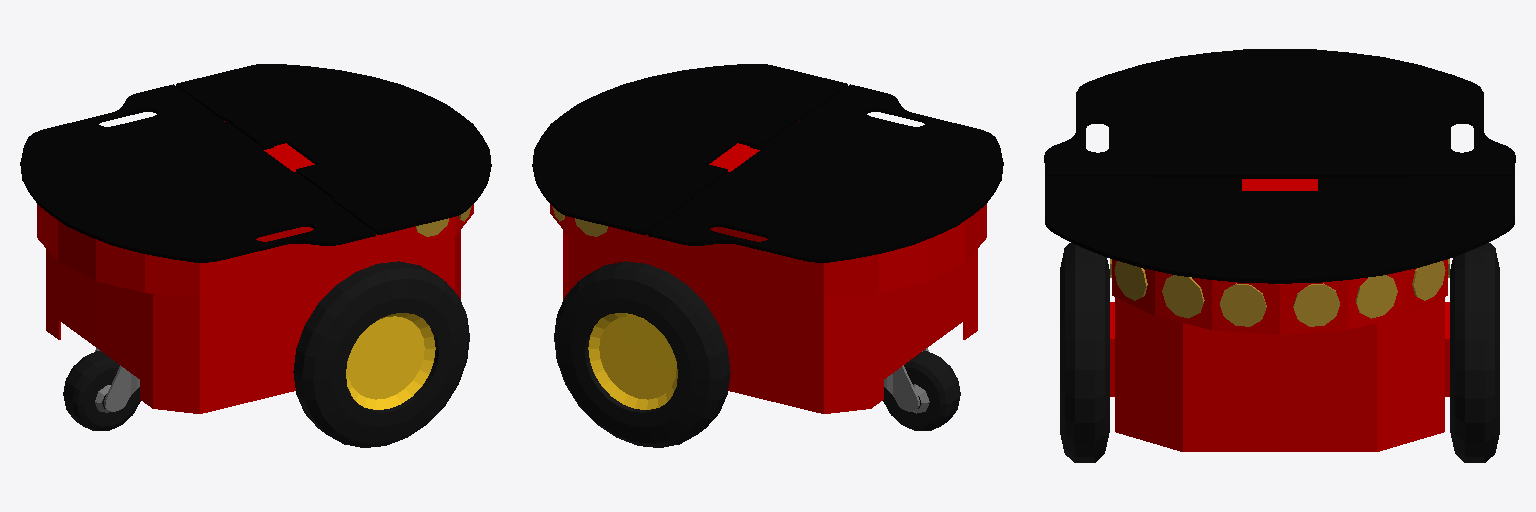
URDF robot description (pioneer3dx):
<?xml version="1.0" ?>

<robot name="pioneer3dx">
  <!-- chassis -->
  <link name="base_link">
    <visual name="base_visual">
      <origin rpy="0 0 0" xyz="-0.045 0 0.148"/>
      <material name="ChassisRed">
        <color rgba="0.851 0.0 0.0 1.0"/>
      </material>
      <geometry name="pioneer_geom">
        <mesh filename="package://p3dx_description_ros/meshes/chassis.stl"/>
      </geometry>
    </visual>
    <collision>
      <origin rpy="0 0 0" xyz="-0.045 0 0.145"/>
      <geometry>
        <box size="0.35 0.25 0.14"/>
      </geometry>
    </collision>
  </link>
  <!-- top_plate -->
  <link name="top_plate">
    <visual name="base_visual">
      <origin rpy="0 0 0" xyz="0 0 0"/>
      <geometry name="top_geom">
        <mesh filename="package://p3dx_description_ros/meshes/top.stl"/>
      </geometry>
      <material name="TopBlack">
        <color rgba="0.038 0.038 0.038 1.0"/>
      </material>
    </visual>
    <collision>
      <origin rpy="0 0 0" xyz="0.0 0 0"/>
      <geometry name="pioneer_geom">
        <box size="0.45 0.38 0.01"/>
      </geometry>
    </collision>
  </link>
  <joint name="base_top_joint" type="fixed">
    <origin rpy="0 0 0" xyz="-0.045 0 0.234"/>
    <parent link="base_link"/>
    <child link="top_plate"/>
  </joint>
  <!-- swivel -->
  <link name="swivel">
    <visual name="base_visual">
      <origin rpy="0 0 0" xyz="0 0 0"/>
      <geometry name="pioneer_geom">
        <mesh filename="package://p3dx_description_ros/meshes/swivel.stl"/>
      </geometry>
      <material name="swivel">
        <color rgba="0.5 0.5 0.5 1"/>
      </material>
    </visual>
    <collision>
      <origin rpy="0 0 0" xyz="0 0 0"/>
      <geometry>
        <box size="0 0 0"/>
      </geometry>
    </collision>
  </link>
  <joint name="base_swivel_joint" type="fixed">
    <origin rpy="0 0 0" xyz="-0.185 0 0.055"/>
    <!--<axis xyz="0 0 1"/>
    <anchor xyz="0 0 0"/>
    <limit effort="100" k_velocity="0" velocity="100"/>
    <joint_properties damping="0.0" friction="0.0"/>-->
    <parent link="base_link"/>
    <child link="swivel"/>
  </joint>
  <!-- center_hubcap -->
  <link name="center_hubcap">
    <visual name="base_visual">
      <origin rpy="0 0 0" xyz="0 0 0"/>
      <geometry name="pioneer_geom">
        <mesh filename="package://p3dx_description_ros/meshes/center_hubcap.stl"/>
      </geometry>
      <material name="swivel">
        <color rgba="0.5 0.5 0.5 1"/>
      </material>
    </visual>
    <collision>
      <origin rpy="0 0 0" xyz="0 0 0"/>
      <geometry>
        <box size="0 0 0"/>
      </geometry>
    </collision>
  </link>
  <joint name="swivel_hubcap_joint" type="fixed">
    <origin rpy="0 0 0" xyz="-0.026 0 -0.016"/>
    <!--<axis xyz="0 1 0"/>
    <anchor xyz="0 0 0"/>
    <limit effort="100" k_velocity="0" velocity="100"/>
    <joint_properties damping="0.0" friction="0.0"/>-->
    <parent link="swivel"/>
    <child link="center_wheel"/>
  </joint>
  <!-- center_wheel -->
  <link name="center_wheel">
    <visual name="base_visual">
      <origin rpy="0 0 0" xyz="0 0 0"/>
      <geometry name="pioneer_geom">
        <mesh filename="package://p3dx_description_ros/meshes/center_wheel.stl"/>
      </geometry>
      <material name="WheelBlack">
        <color rgba="0.117 0.117 0.117 1"/>
      </material>
    </visual>
    <collision>
      <origin rpy="-1.57079635 0 0" xyz="0 0 0"/>
      <geometry>
        <cylinder length="0.01" radius="0.0375"/>
      </geometry>
    </collision>
  </link>
  <joint name="center_wheel_joint" type="fixed">
    <origin rpy="0 0 0" xyz="-0.0035 0 -0.001"/>
    <parent link="center_wheel"/>
    <child link="center_hubcap"/>
  </joint>
  <link name="p3dx_left_wheel">
    <visual name="base_visual">
      <origin rpy="0 0 0" xyz="0 0 0"/>
      <geometry name="pioneer_geom">
        <mesh filename="package://p3dx_description_ros/meshes/left_wheel.stl"/>
      </geometry>
      <material name="WheelBlack">
        <color rgba="0.117 0.117 0.117 1"/>
      </material>
    </visual>
    <collision>
      <origin rpy="-1.57079635 0 0" xyz="0 0 0"/>
      <geometry>
        <!--<mesh filename="package://p3dx_description_ros/meshes/${suffix}_wheel.stl"/> -->
        <cylinder length="0.01" radius="0.09"/>
      </geometry>
    </collision>
  </link>
  <joint name="base_left_hubcap_joint" type="fixed">
    <origin rpy="0 0 0" xyz="0 0 0"/>
    <parent link="p3dx_left_wheel"/>
    <child link="p3dx_left_hubcap"/>
  </joint>
  <link name="p3dx_left_hubcap">
    <visual name="base_visual">
      <origin rpy="0 0 0" xyz="0 0 0"/>
      <geometry name="pioneer_geom">
        <mesh filename="package://p3dx_description_ros/meshes/left_hubcap.stl"/>
      </geometry>
      <material name="HubcapYellow">
        <color rgba="1.0 0.811 0.151 1.0"/>
      </material>
    </visual>
    <collision>
      <origin rpy="0 0 0" xyz="0 0 0"/>
      <geometry>
        <box size="0 0 0"/>
      </geometry>
    </collision>
  </link>
  <joint name="base_left_wheel_joint" type="fixed">
    <!--<axis xyz="0 1 0"/>
    <anchor xyz="0 0 0"/>
    <limit effort="100" velocity="100"/>
    <joint_properties damping="0.0" friction="0.0"/>-->
    <origin rpy="0 0 0" xyz="0 0.158 0.091"/>
    <parent link="base_link"/>
    <child link="p3dx_left_wheel"/>
  </joint>
  <link name="p3dx_right_wheel">
    <inertial>
      <mass value="0.5"/>
      <origin xyz="0 0 0"/>
      <inertia ixx="0.012411765597" ixy="0" ixz="0" iyy="0.015218160428" iyz="0" izz="0.011763977943"/>
    </inertial>
    <visual name="base_visual">
      <origin rpy="0 0 0" xyz="0 0 0"/>
      <geometry name="pioneer_geom">
        <mesh filename="package://p3dx_description_ros/meshes/right_wheel.stl"/>
      </geometry>
      <material name="WheelBlack">
        <color rgba="0.117 0.117 0.117 1"/>
      </material>
    </visual>
    <collision>
      <origin rpy="-1.57079635 0 0" xyz="0 0 0"/>
      <geometry>
        <!--<mesh filename="package://p3dx_description_ros/meshes/${suffix}_wheel.stl"/> -->
        <cylinder length="0.01" radius="0.09"/>
      </geometry>
    </collision>
  </link>
  <joint name="base_right_hubcap_joint" type="fixed">
    <origin rpy="0 0 0" xyz="0 0 0"/>
    <parent link="p3dx_right_wheel"/>
    <child link="p3dx_right_hubcap"/>
  </joint>
  <link name="p3dx_right_hubcap">
    <visual name="base_visual">
      <origin rpy="0 0 0" xyz="0 0 0"/>
      <geometry name="pioneer_geom">
        <mesh filename="package://p3dx_description_ros/meshes/right_hubcap.stl"/>
      </geometry>
      <material name="HubcapYellow">
        <color rgba="1.0 0.811 0.151 1.0"/>
      </material>
    </visual>
    <collision>
      <origin rpy="0 0 0" xyz="0 0 0"/>
      <geometry>
        <box size="0 0 0"/>
      </geometry>
    </collision>
  </link>
  <joint name="base_right_wheel_joint" type="fixed">
    <!--<axis xyz="0 1 0"/>
    <anchor xyz="0 0 0"/>
    <limit effort="100" velocity="100"/>
    <joint_properties damping="0.0" friction="0.0"/>-->
    <origin rpy="0 0 0" xyz="0 -0.158 0.091"/>
    <parent link="base_link"/>
    <child link="p3dx_right_wheel"/>
  </joint>
  <!-- front_sonar -->
  <link name="front_sonar">
    <visual name="front_sonar_vis">
      <origin rpy="0 0 0" xyz="0 0 0"/>
      <geometry name="pioneer_geom">
        <mesh filename="package://p3dx_description_ros/meshes/front_sonar.stl"/>
      </geometry>
      <material name="SonarYellow">
        <color rgba="0.715 0.583 0.210 1.0"/>
      </material>
    </visual>
    <collision>
      <origin rpy="0 0 0" xyz="0 0 0"/>
      <geometry>
        <box size="0 0 0"/>
      </geometry>
    </collision>
  </link>
  <joint name="base_front_joint" type="fixed">
    <origin rpy="0 0 0" xyz="0.109 0 0.209"/>
    <parent link="base_link"/>
    <child link="front_sonar"/>
  </joint>
  <!-- lms100 laser -->
  <link name="lms100">
    <visual>
      <origin rpy="0 0 0" xyz="0 0 0"/>
      <geometry>
        <mesh filename="package://p3dx_description_ros/meshes/lms100.dae"/>
      </geometry>
    </visual>
    <collision>
      <origin rpy="0 0 0" xyz="0 0 0"/>
      <geometry>
        <box size="0.1 0.1 0.1"/>
      </geometry>
    </collision>
  </link>
  <joint name="lms100_joint" type="fixed">
    <axis xyz="0 1 0"/>
    <origin rpy="0 0 0" xyz="0.16 0 0.1"/> <!-- 0.15 -->
    <parent link="base_link"/>
    <child link="lms100"/>
  </joint>
</robot>

--- Render facts (derived) ---
Views: 3 orthographic renders of the robot side by side, from view 1: azimuth 30°, elevation 25°; view 2: azimuth 150°, elevation 25°; view 3: azimuth 270°, elevation 25°.
Robot: pioneer3dx — 11 links, 10 joints (10 fixed); root link base_link; default pose: every joint at zero.
Links seen in each view (by area): view 1: top_plate, base_link, p3dx_right_wheel, p3dx_right_hubcap, center_wheel, swivel; view 2: top_plate, base_link, p3dx_left_wheel, p3dx_left_hubcap, center_wheel, swivel; view 3: top_plate, base_link, p3dx_left_wheel, p3dx_right_wheel, front_sonar.
Link boxes in pixels (x1=…): top_plate: x1=20, y1=64, x2=491, y2=262; base_link: x1=37, y1=121, x2=473, y2=413; p3dx_right_wheel: x1=293, y1=261, x2=469, y2=447; p3dx_right_hubcap: x1=346, y1=313, x2=435, y2=409; center_wheel: x1=63, y1=351, x2=140, y2=430; swivel: x1=95, y1=348, x2=139, y2=411; top_plate: x1=532, y1=64, x2=1003, y2=262; base_link: x1=550, y1=121, x2=986, y2=413; p3dx_left_wheel: x1=554, y1=261, x2=730, y2=447; p3dx_left_hubcap: x1=588, y1=313, x2=677, y2=409; center_wheel: x1=883, y1=351, x2=960, y2=430; swivel: x1=884, y1=348, x2=928, y2=411; top_plate: x1=1044, y1=49, x2=1515, y2=283; base_link: x1=1110, y1=179, x2=1449, y2=451; p3dx_left_wheel: x1=1450, y1=243, x2=1499, y2=462; p3dx_right_wheel: x1=1060, y1=243, x2=1109, y2=462; front_sonar: x1=1110, y1=259, x2=1449, y2=326.
Bounding box of the posed robot: 0.4422 × 0.3812 × 0.2368 m (x, y, z).
Meshes: 11 distinct files referenced, 10 mesh visuals loaded (10 binary STL); not drawn: 1 (reference not matched to a file when rendering).
